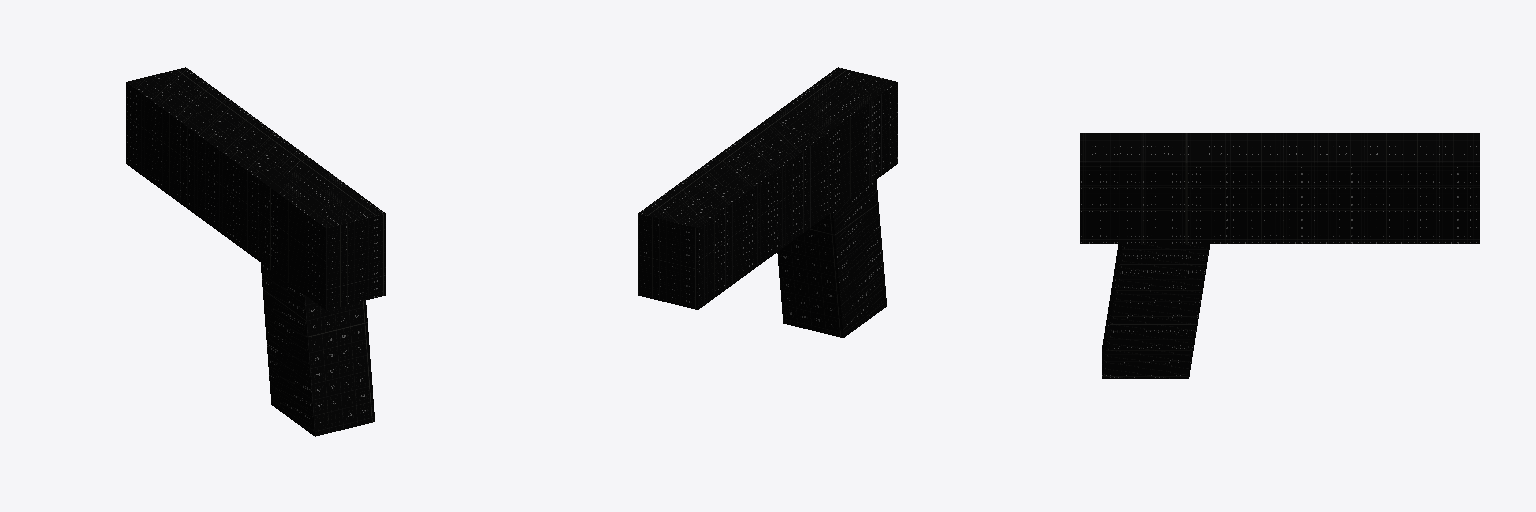
3 renders of one model, left to right at view 1: azimuth 30°, elevation 25°; view 2: azimuth 150°, elevation 25°; view 3: azimuth 270°, elevation 25°, orthographic.
Visible parts, largest first — view 1: Cube; view 2: Cube; view 3: Cube.
Part boxes in pixels (left/top/right/bottom): Cube: left=126, top=67, right=385, bottom=436; Cube: left=638, top=67, right=897, bottom=337; Cube: left=1080, top=133, right=1479, bottom=378.
Bounding box in the file's own units: 0.0205 × 0.0704 × 0.1179.
Materials: 1 (1 with a texture image).